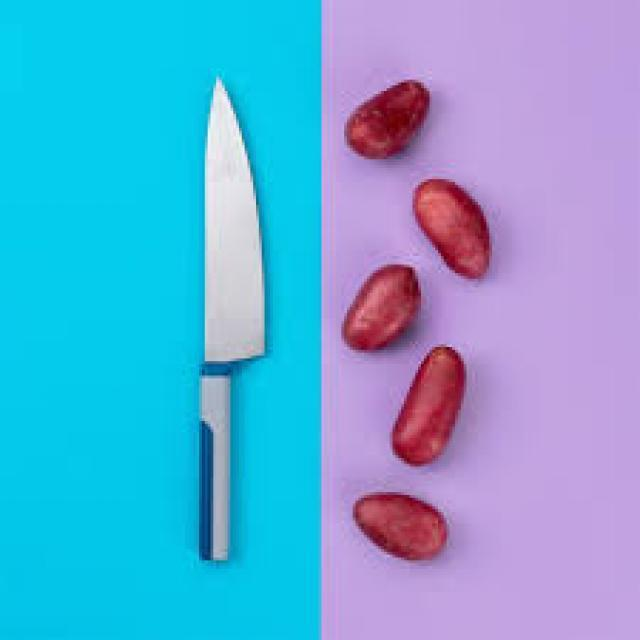knife: (122, 80, 310, 610)
